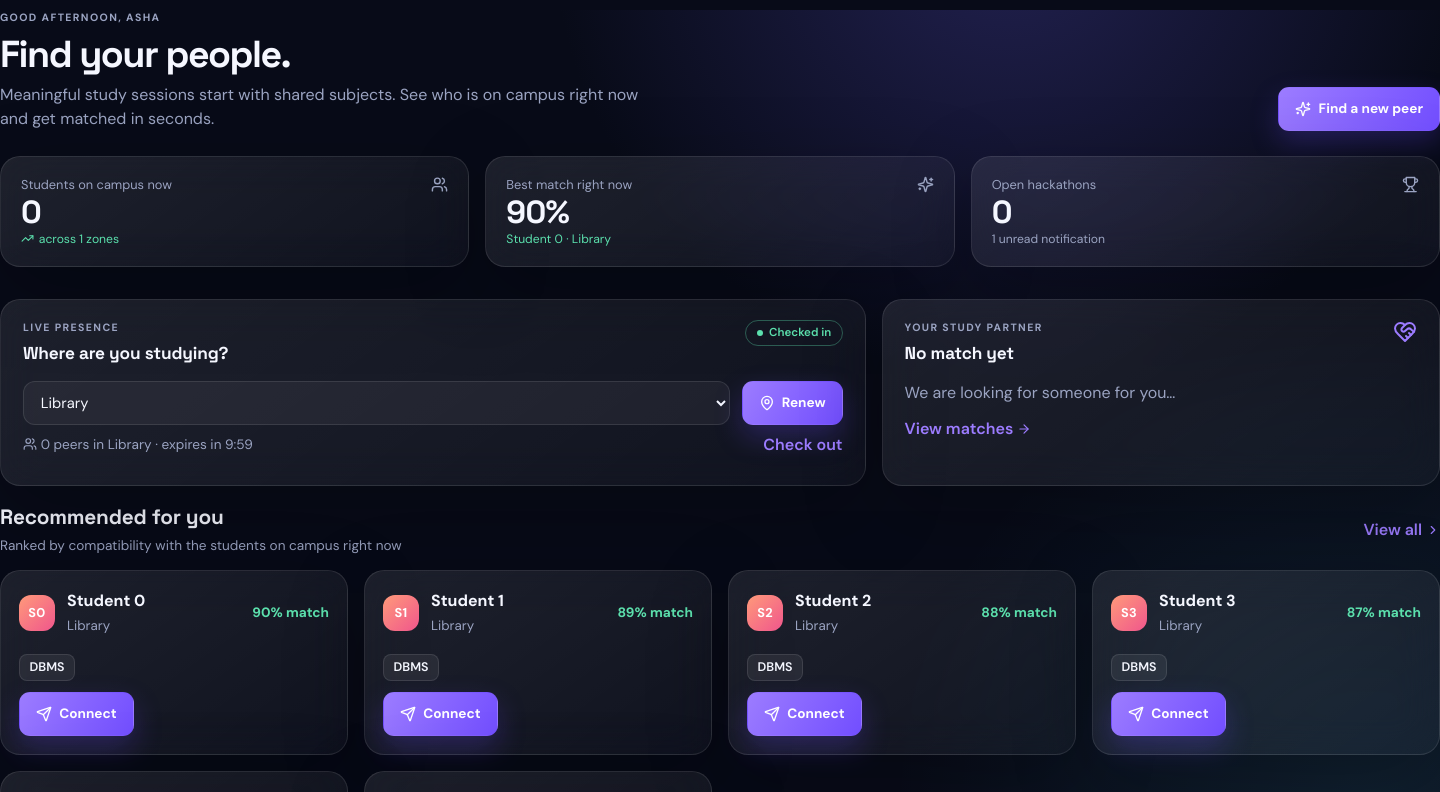
Overview recommendations › opens every recommendation in a dialog that closes again without leaving the page
Click the button "View all" at (1402, 530), box [1363,518,1439,542]
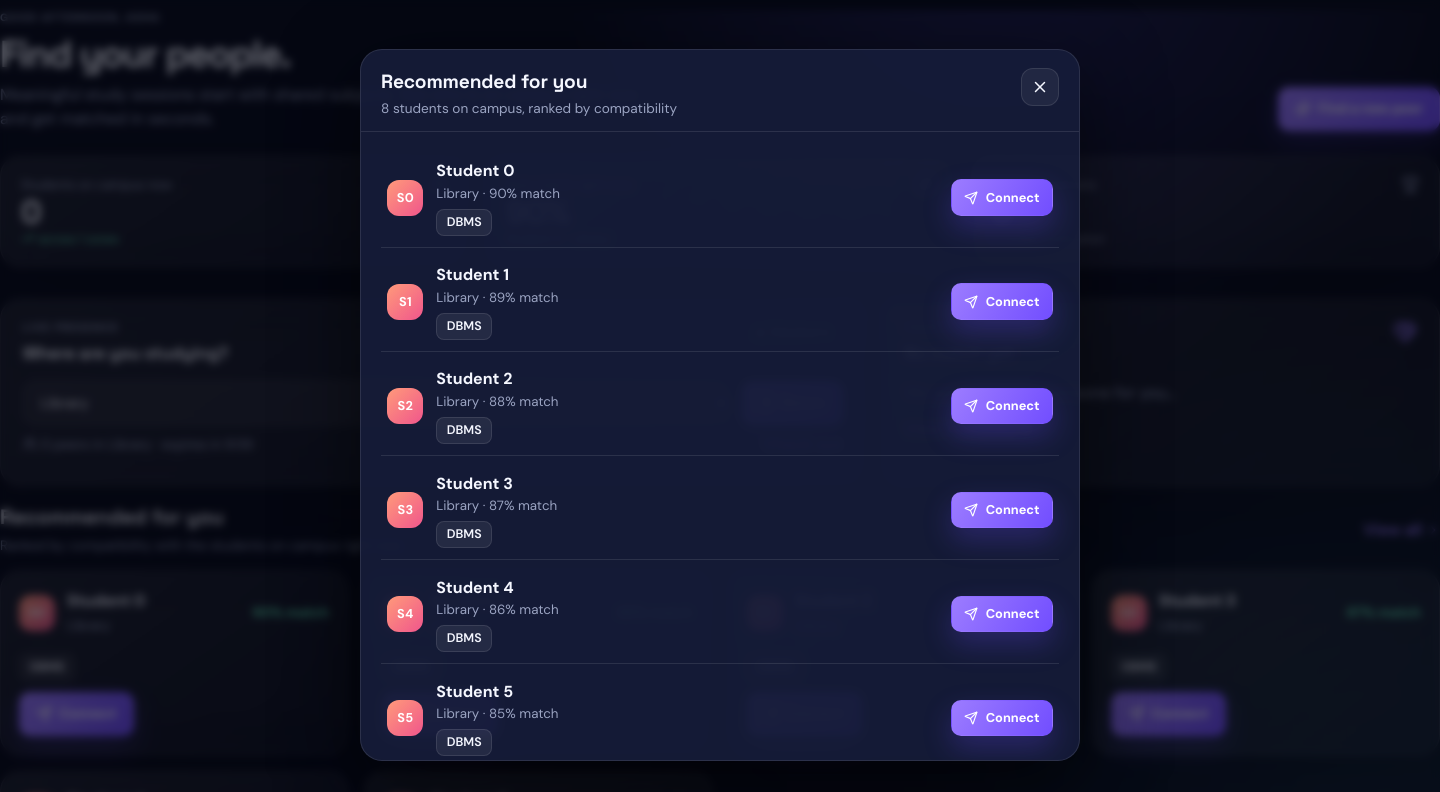
Check: the number of buttons named "Connect with" is 8
Click the button named "Close" at (1040, 87), box [1021,68,1059,106]
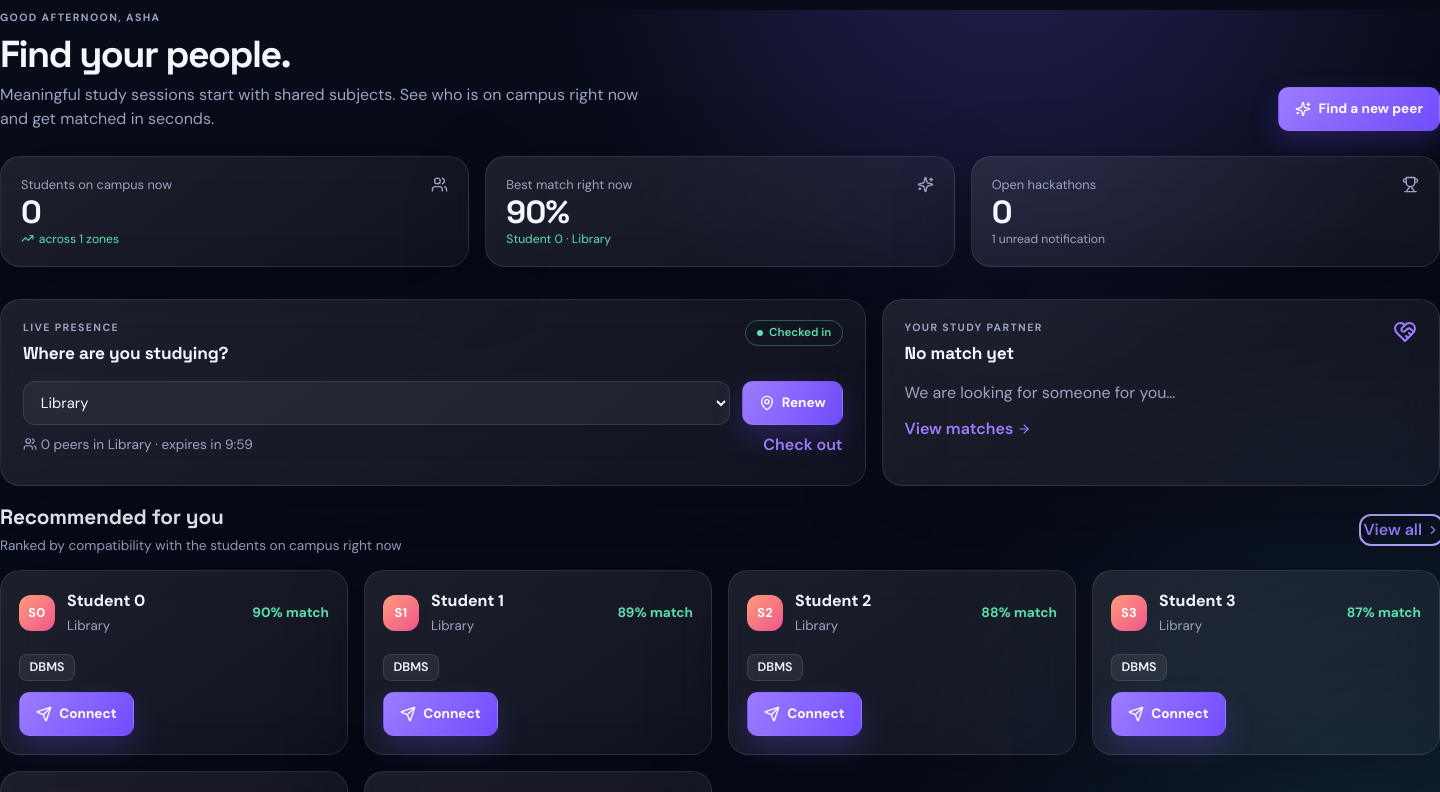
Check: the dialog is gone
